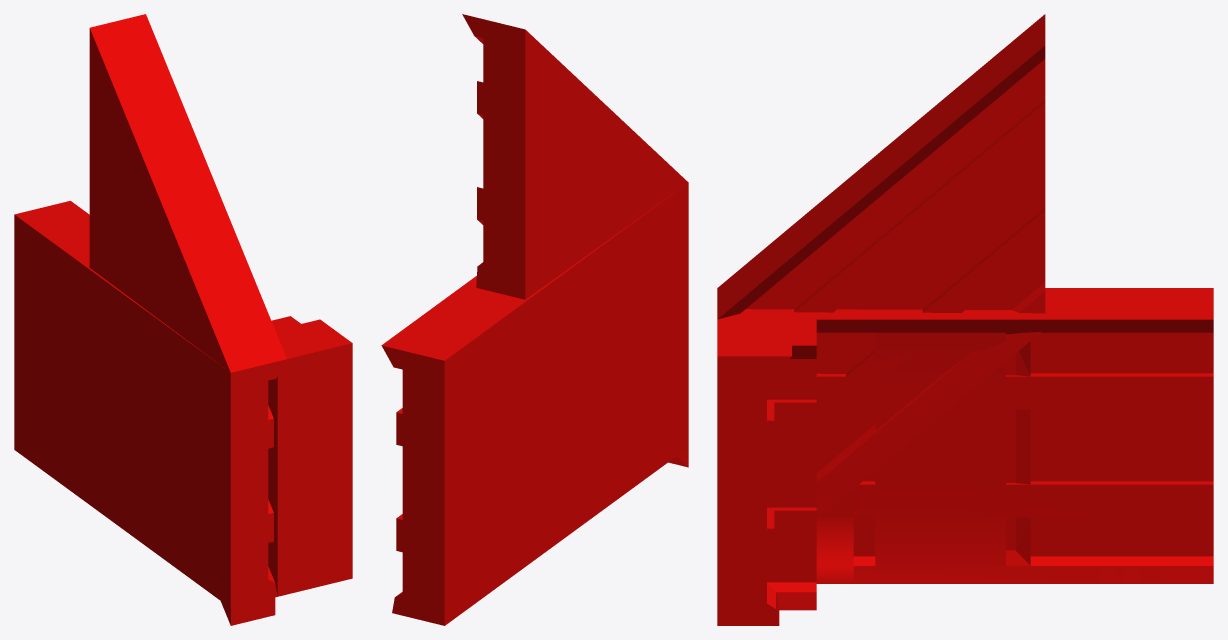
The model's file is Paredes.fbx.
3 renders of one model, left to right at view 1: azimuth 30°, elevation 25°; view 2: azimuth 150°, elevation 25°; view 3: azimuth 270°, elevation 25°, orthographic. The views are drawn at different scales.
Visible parts, largest first — view 1: Pared mid 1m.001, Pared Escalera.001, Pared 0.003, Esquina adentro.001, Pared 0.002, Pared 0.001; view 2: Pared mid 1m.001, Pared Escalera.001, Pared 0.003, Pared 0.002; view 3: Pared Escalera.001, Pared 0.001, Esquina adentro.001, Pared mid 1m.001, Pared 0.002, Pared 0.003, pared chica.001.
Boxes of the visible parts, box(x1,y1,x2,y2) form: Pared mid 1m.001: box(14, 201, 286, 607); Pared Escalera.001: box(89, 14, 286, 625); Pared 0.003: box(31, 212, 278, 607); Esquina adentro.001: box(268, 316, 352, 596); Pared 0.002: box(47, 228, 224, 368); Pared 0.001: box(254, 362, 283, 525); Pared mid 1m.001: box(381, 182, 688, 625); Pared Escalera.001: box(462, 14, 688, 467); Pared 0.003: box(400, 183, 688, 530); Pared 0.002: box(418, 187, 681, 333); Pared Escalera.001: box(717, 14, 1045, 519); Pared 0.001: box(853, 319, 1114, 583); Esquina adentro.001: box(717, 319, 816, 625); Pared mid 1m.001: box(1006, 288, 1213, 583); Pared 0.002: box(718, 288, 1138, 583); Pared 0.003: box(981, 288, 1176, 583); pared chica.001: box(816, 319, 853, 583).
Size of the model in its own units: 108 by 419 by 333.
